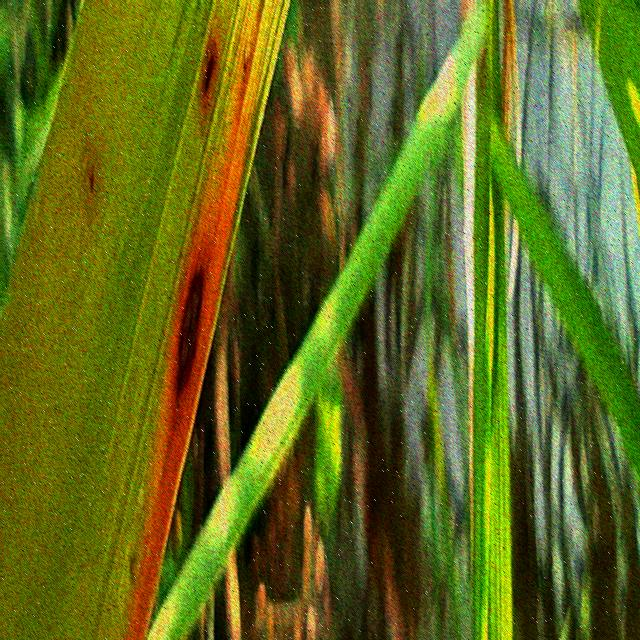LEAF BLAST: (176, 264, 203, 396)
